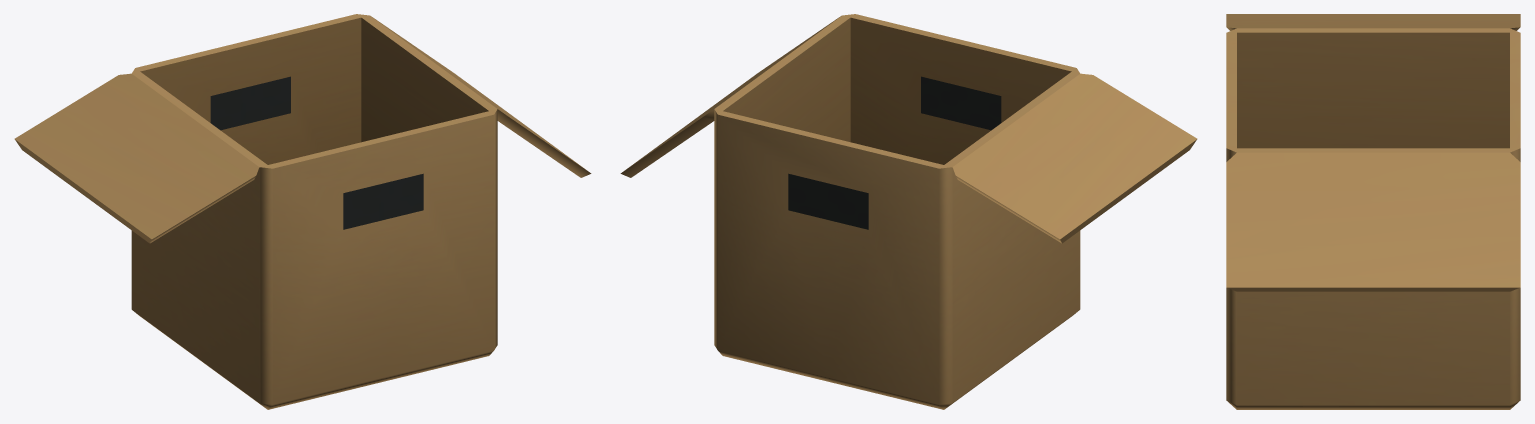
Rendered from box_cardboard_large_square_open_flaps_handle.fbx.
The picture shows the model from 3 angles, left to right: view 1: azimuth 30°, elevation 25°; view 2: azimuth 150°, elevation 25°; view 3: azimuth 270°, elevation 25°; orthographic projection. The views are drawn at different scales.
Parts seen in each view (by area): view 1: box_cardboard_large_square_open_flaps_handle; view 2: box_cardboard_large_square_open_flaps_handle; view 3: box_cardboard_large_square_open_flaps_handle.
Boxes of the visible parts, left/top/right/bottom form: box_cardboard_large_square_open_flaps_handle: left=14, top=14, right=591, bottom=409; box_cardboard_large_square_open_flaps_handle: left=620, top=14, right=1197, bottom=409; box_cardboard_large_square_open_flaps_handle: left=1226, top=14, right=1520, bottom=409.
Bounding box in the file's own units: 191 × 102 × 104.
